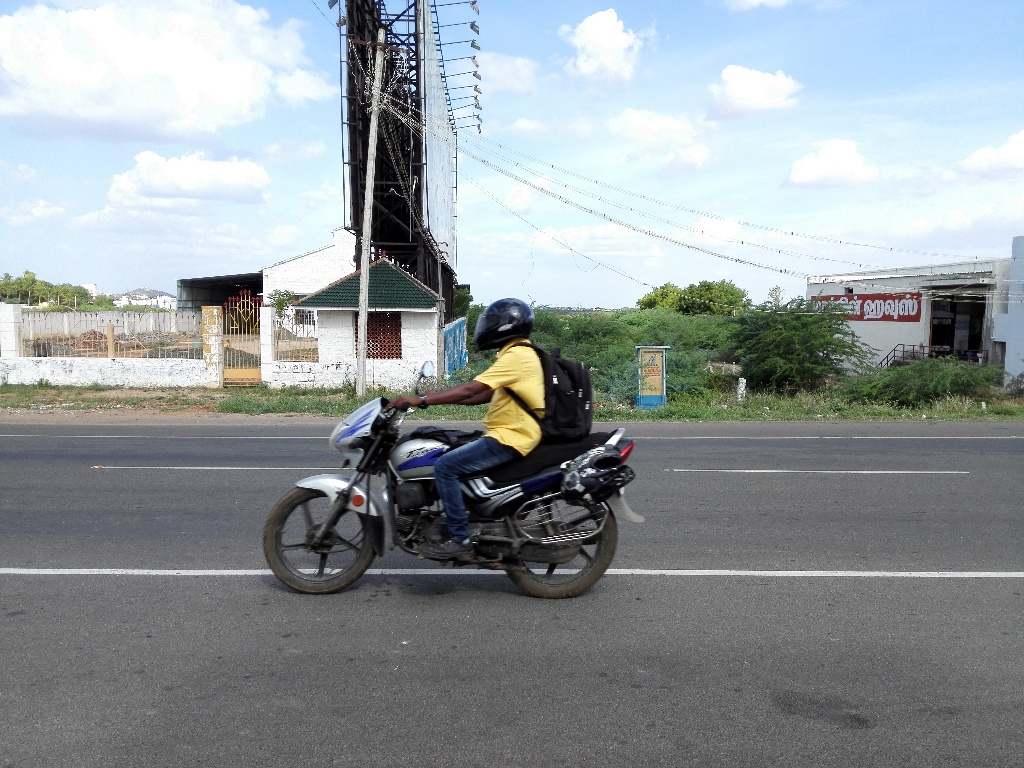biker: (241, 268, 657, 618)
helmet: (468, 285, 543, 363)
